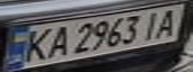2: (72, 20, 96, 56)
3: (121, 12, 145, 45)
6: (106, 16, 130, 48)
9: (90, 17, 112, 52)
A: (42, 24, 72, 60), (151, 7, 184, 39)
I: (139, 8, 166, 42)
K: (18, 26, 57, 63)
